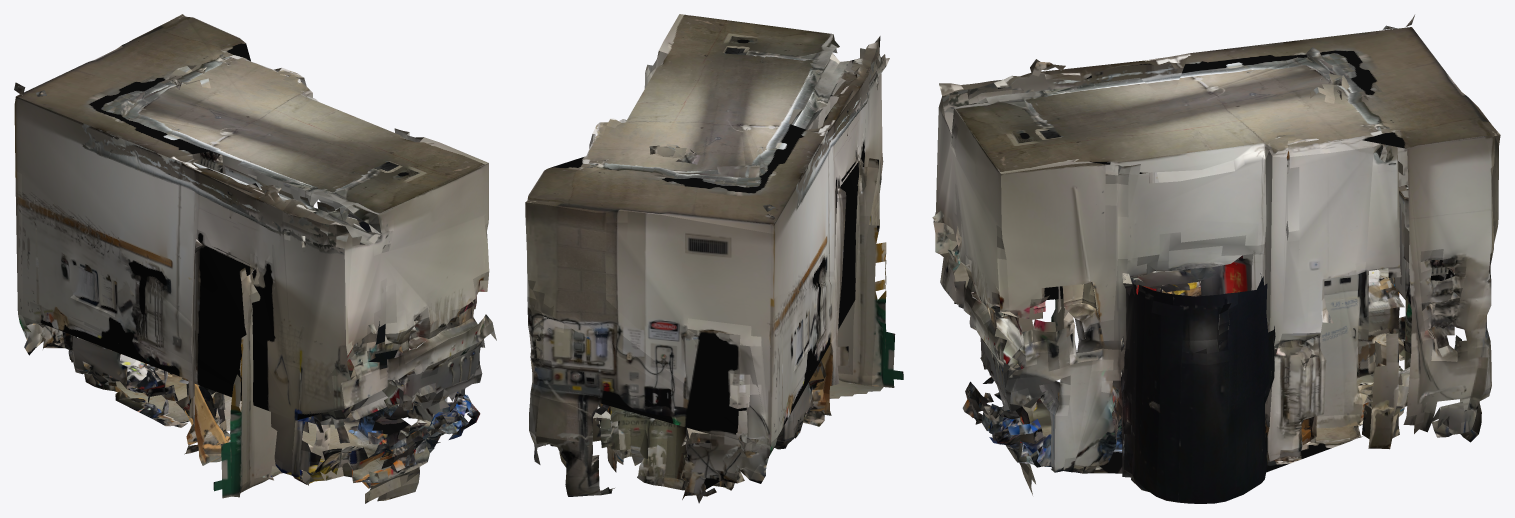
Rendered from Mg_photo_3-IM.fbx.
The picture shows the model from 3 angles, left to right: view 1: azimuth 30°, elevation 25°; view 2: azimuth 150°, elevation 25°; view 3: azimuth 270°, elevation 25°; orthographic projection. The views are drawn at different scales.
Visible parts, largest first — view 1: Mg_photo_3-IM; view 2: Mg_photo_3-IM; view 3: Mg_photo_3-IM.
Part boxes in pixels (x1,y1,x2,y2): Mg_photo_3-IM: [14, 14, 496, 503]; Mg_photo_3-IM: [525, 14, 903, 503]; Mg_photo_3-IM: [932, 15, 1500, 503].
Size of the model in its own units: 361 by 369 by 511.
Materials: 1 (1 with a texture image).
